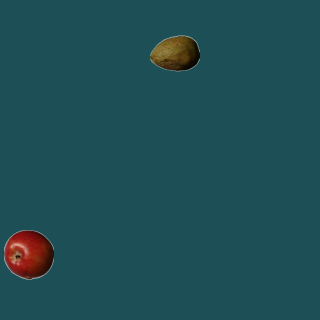Apple Braeburn: (3, 229, 53, 279)
Papaya: (149, 28, 199, 78)
